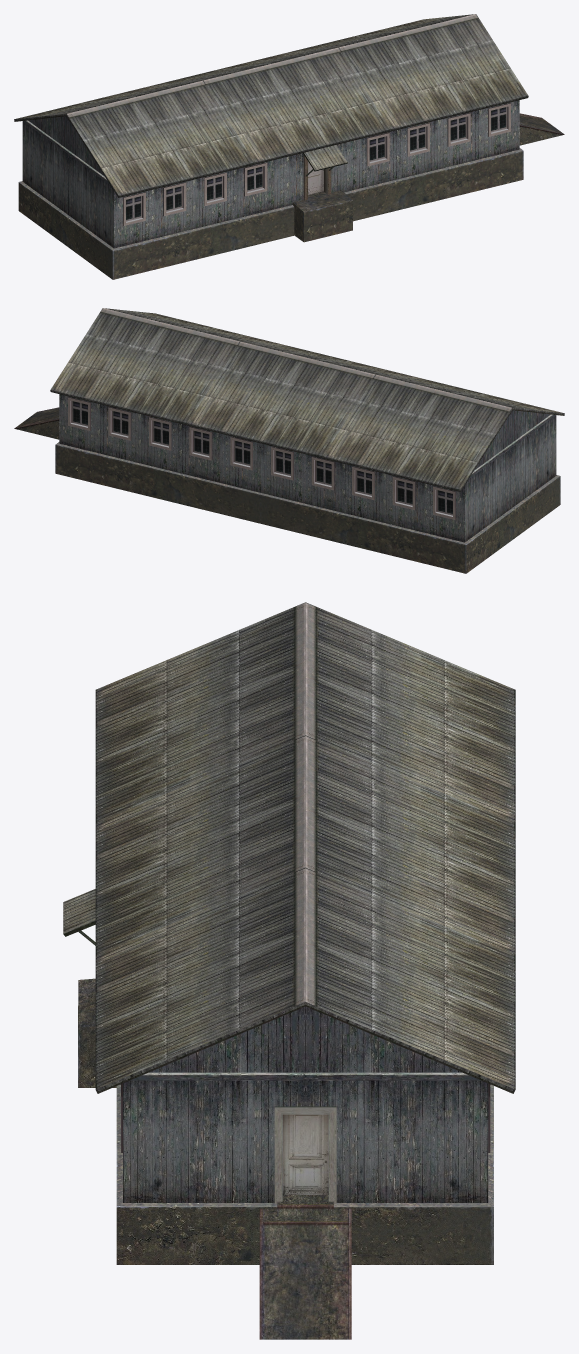
3 views of the same model, one above another, from view 1: azimuth 30°, elevation 25°; view 2: azimuth 150°, elevation 25°; view 3: azimuth 270°, elevation 25° (orthographic). The views are drawn at different scales.
Visible parts, largest first — view 1: b8; view 2: b8; view 3: b8.
Part boxes in pixels (<box>): b8: <box>14,14,564,279</box>; b8: <box>14,308,564,573</box>; b8: <box>63,602,515,1339</box>.
Bounding box in the file's own units: 26.1 × 6.71 × 10.48.
Materials: 1 (1 with a texture image).
